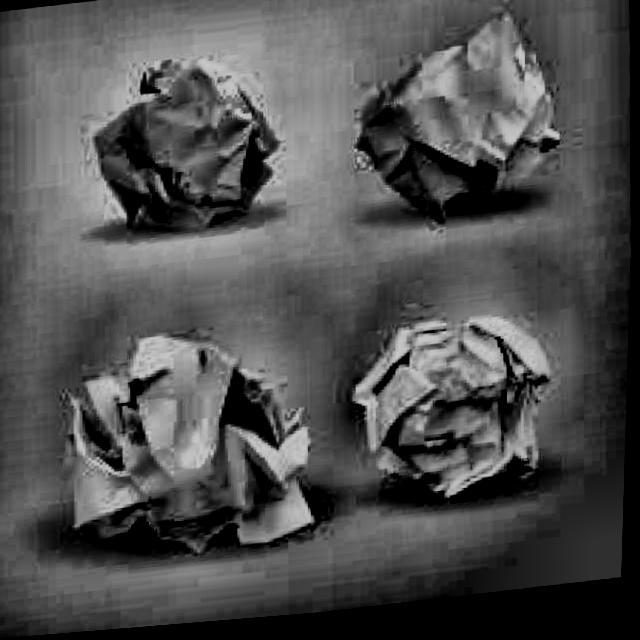Paper: (62, 320, 322, 572), (349, 15, 563, 235), (350, 311, 554, 516), (91, 46, 283, 240)
